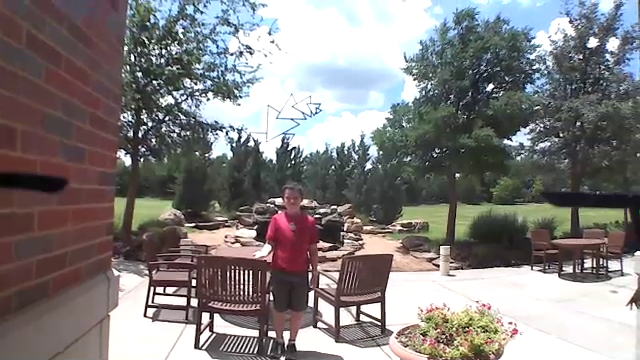land: (251, 249, 269, 260)
